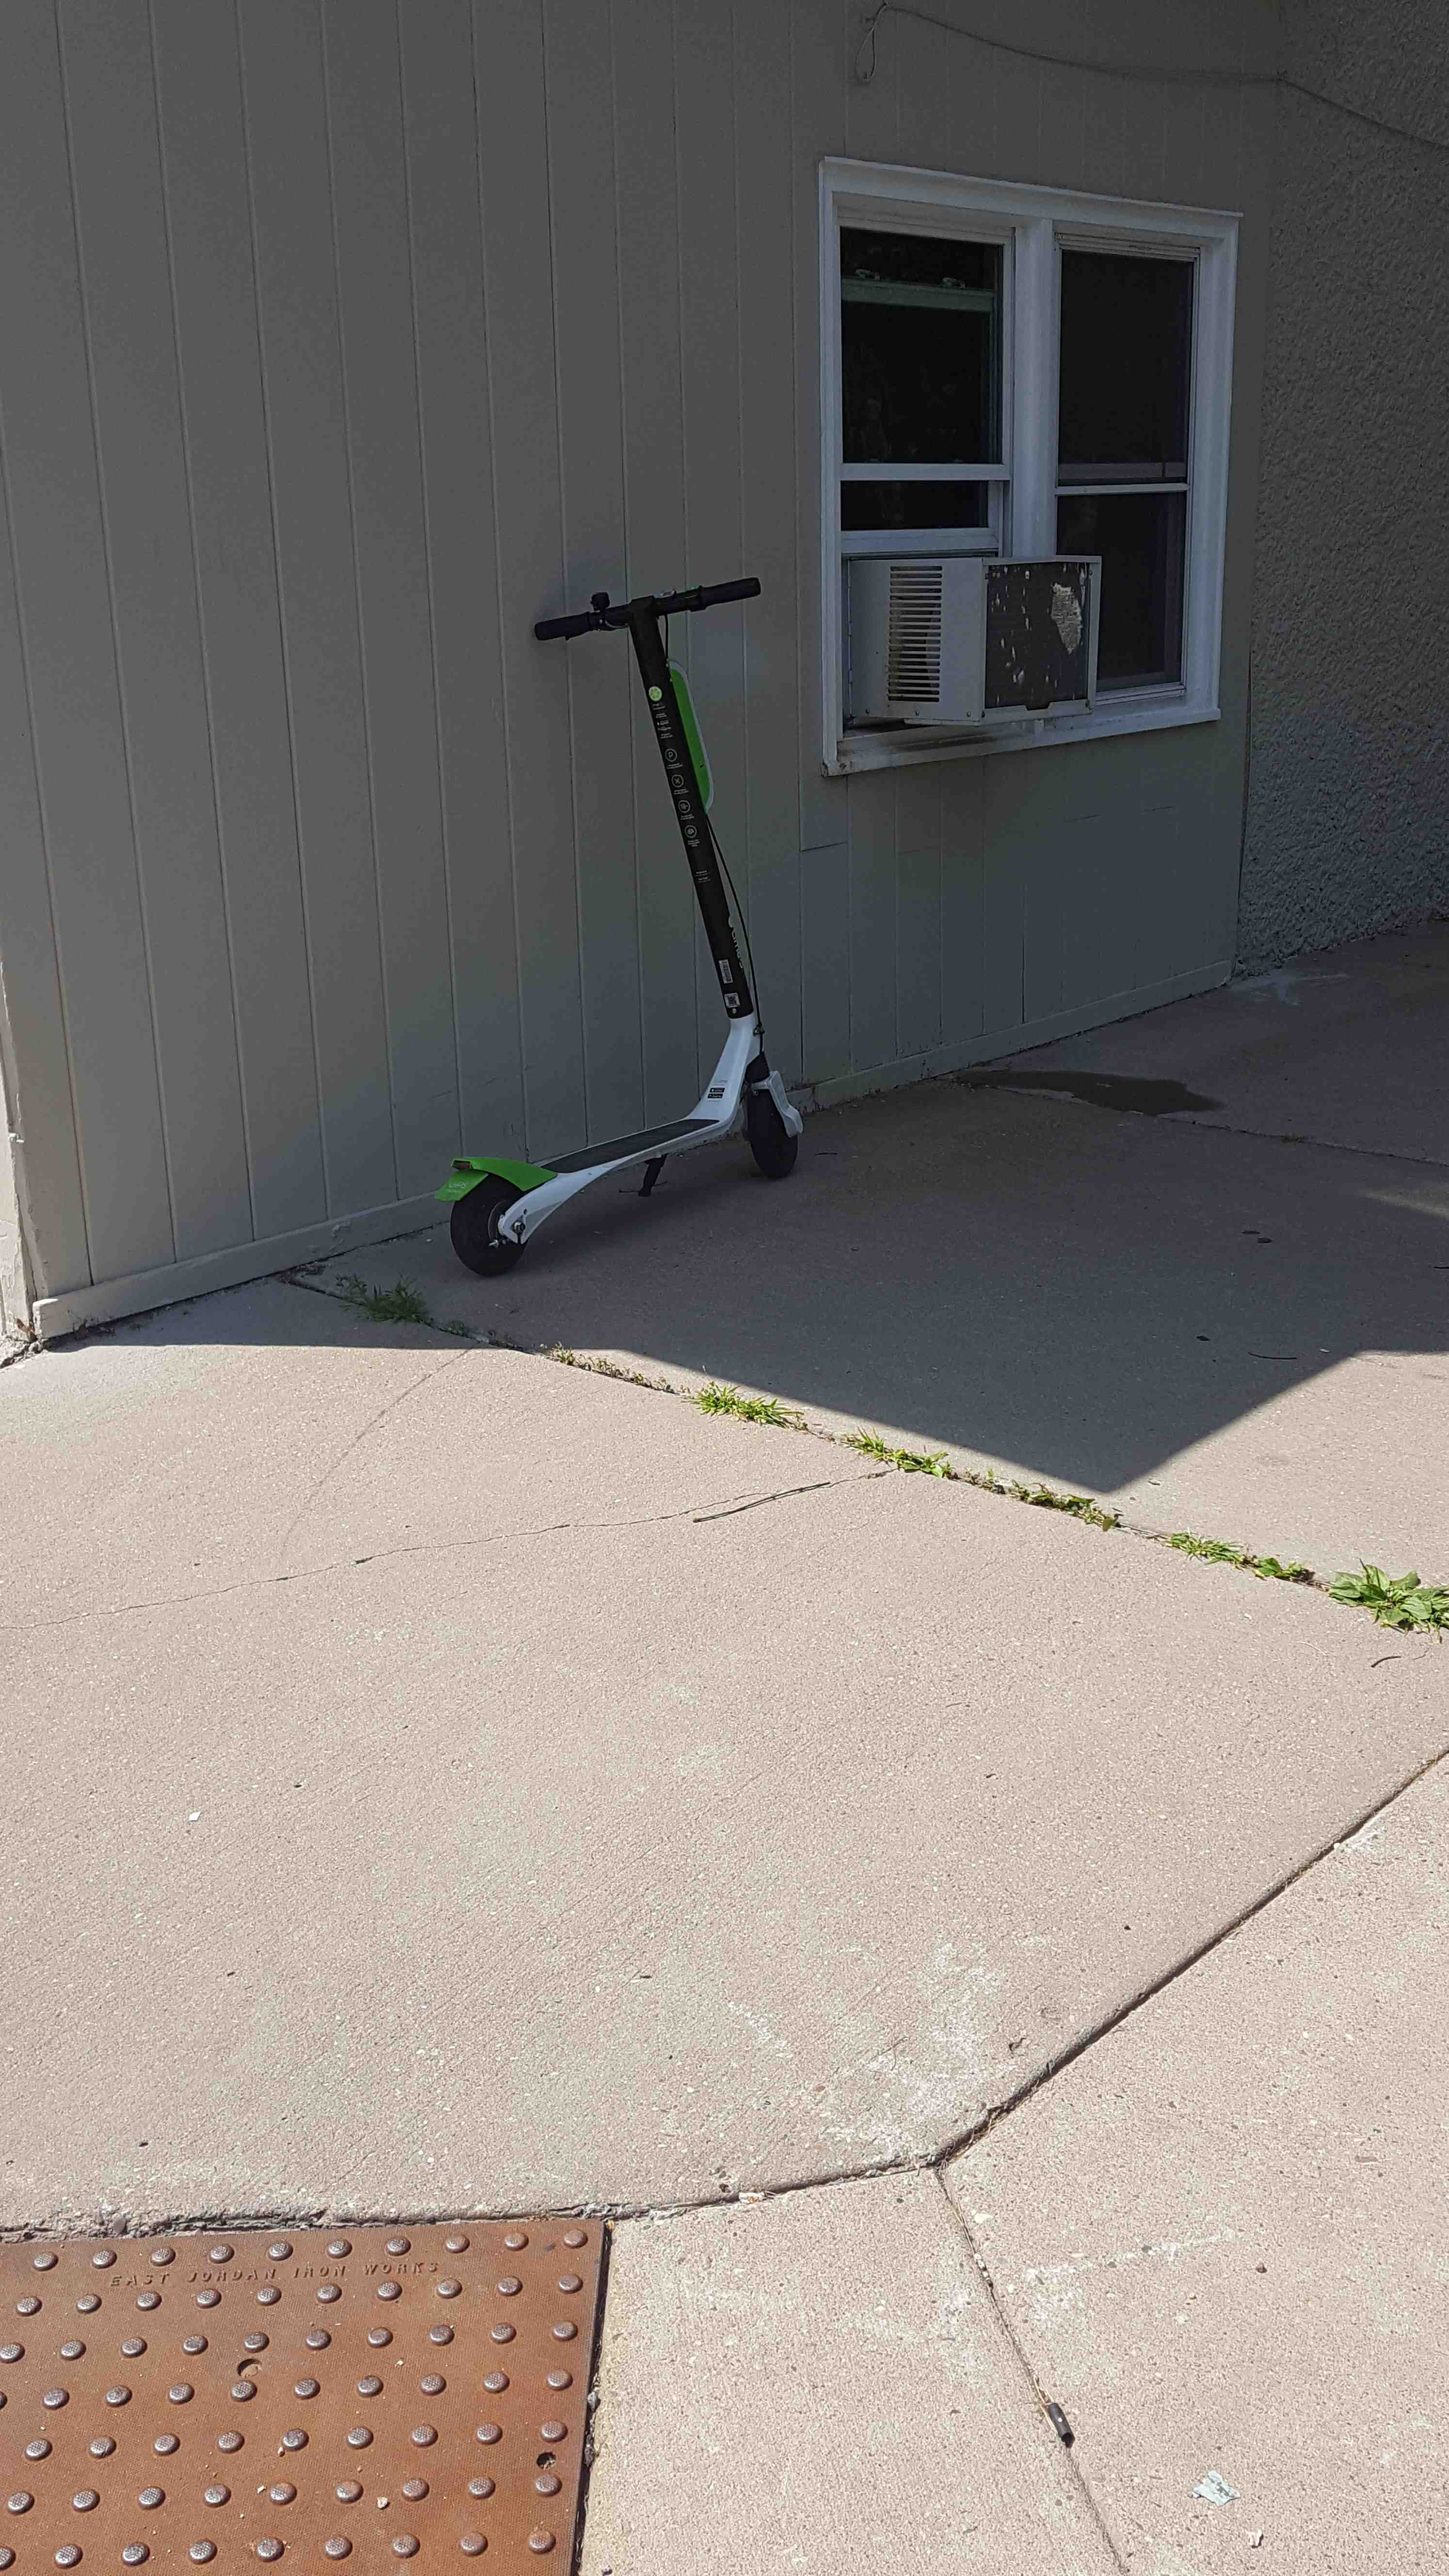scooter: (400, 579, 826, 1382)
